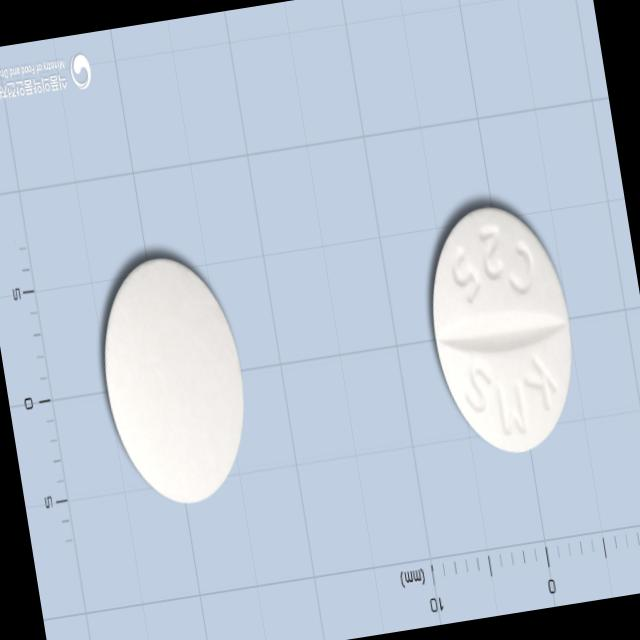Cyspec: (415, 195, 589, 464)
